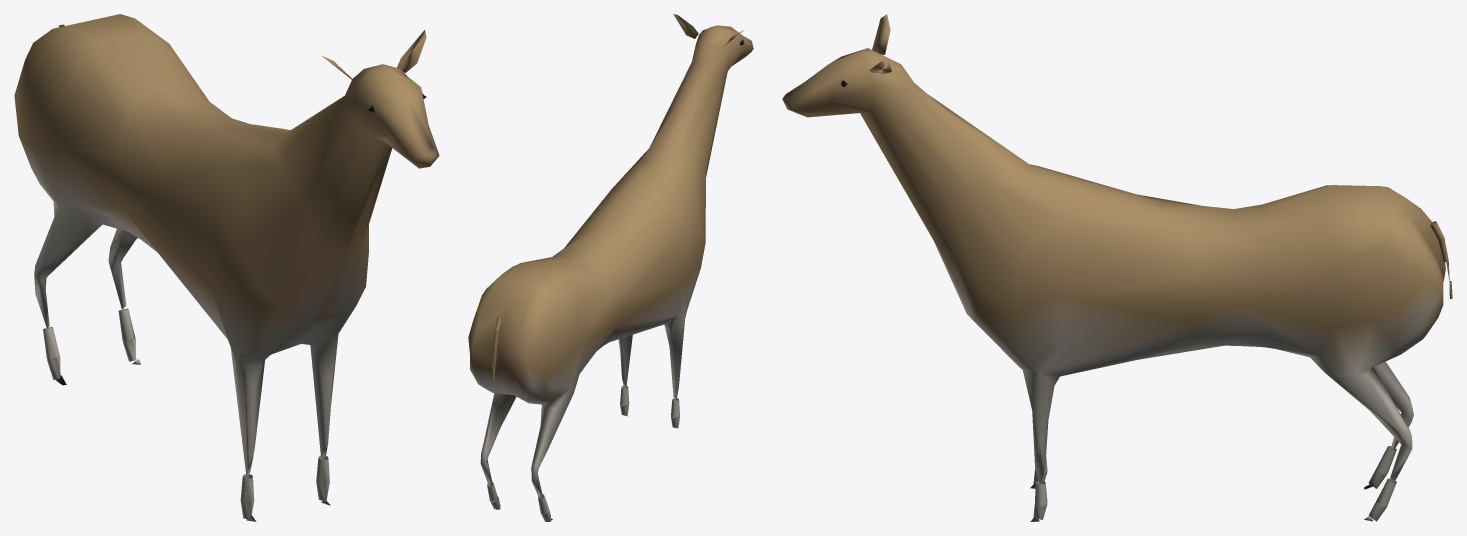
The model's file is antilope.glb.
The picture shows the model from 3 angles, left to right: view 1: azimuth 30°, elevation 25°; view 2: azimuth 150°, elevation 25°; view 3: azimuth 270°, elevation 25°; orthographic projection. The views are drawn at different scales.
Visible parts, largest first — view 1: lack; view 2: lack; view 3: lack.
Boxes of the visible parts, bbox=[...] form: lack: bbox=[14, 14, 439, 521]; lack: bbox=[468, 14, 753, 521]; lack: bbox=[782, 14, 1452, 521].
Bounding box in the file's own units: 0.3599 × 1.37 × 1.78.
